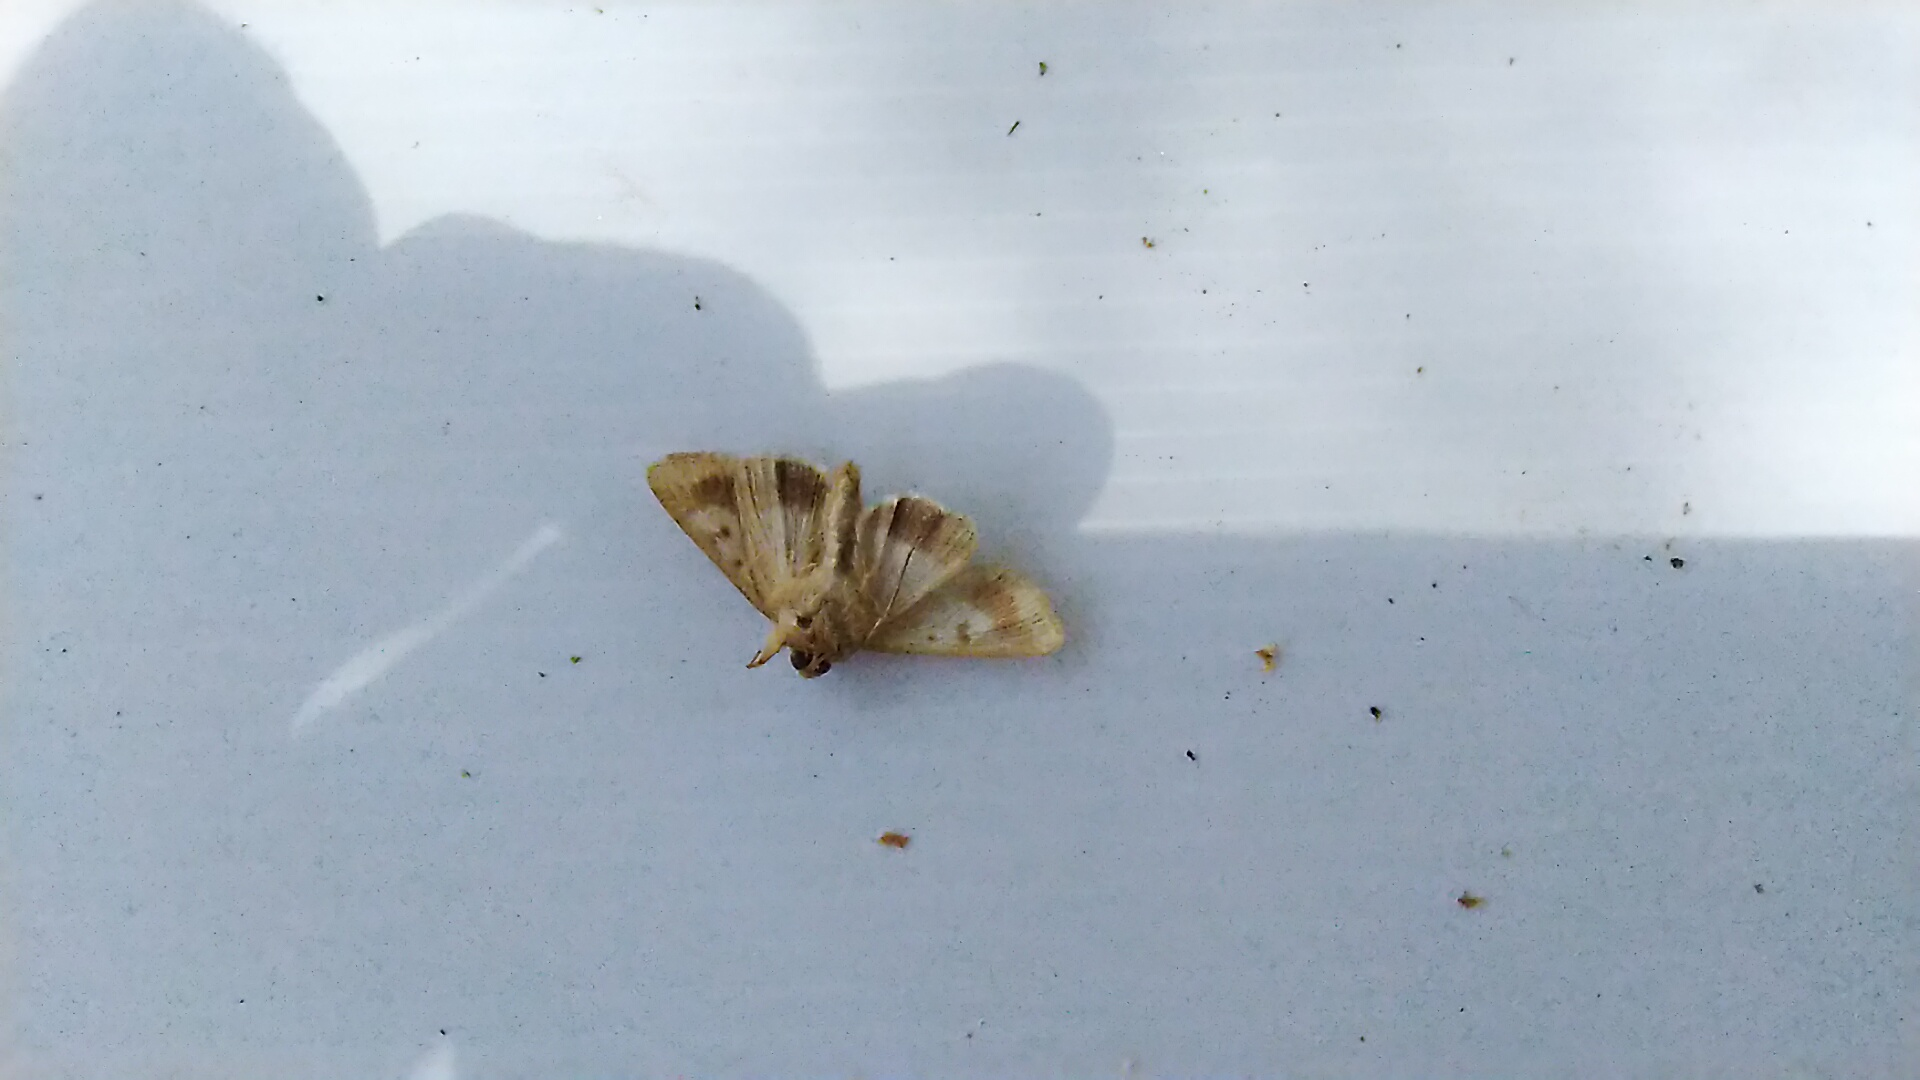INS-C: (615, 417, 1072, 690)
